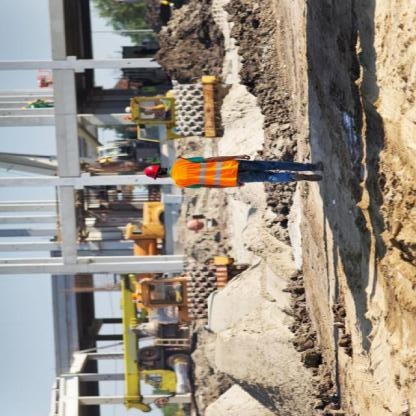red: (141, 160, 162, 180)
vest: (170, 153, 238, 189)
